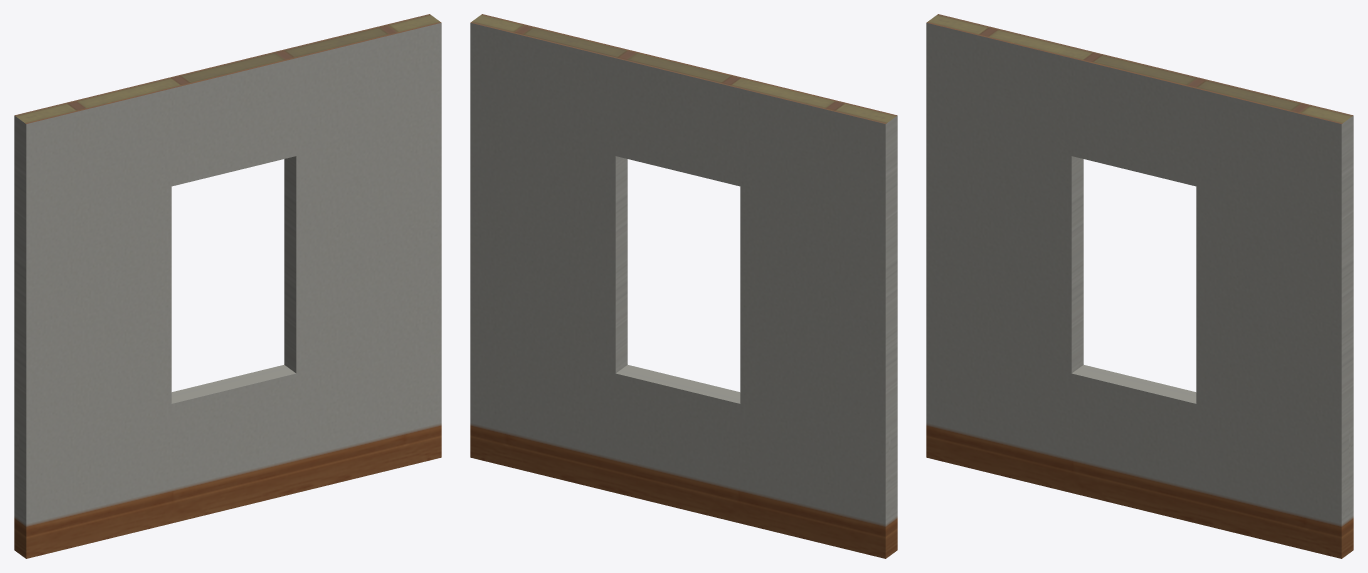
The model's file is wall4_4.fbx.
The picture shows the model from 3 angles, left to right: view 1: azimuth 30°, elevation 25°; view 2: azimuth 150°, elevation 25°; view 3: azimuth 330°, elevation 25°; orthographic projection.
Parts seen in each view (by area): view 1: wall4_white_d; view 2: wall4_white_d; view 3: wall4_white_d.
Part boxes in pixels (<box>): wall4_white_d: <box>14,14,441,558</box>; wall4_white_d: <box>470,14,897,558</box>; wall4_white_d: <box>926,14,1353,558</box>.
Bounding box in the file's own units: 400 × 400 × 20.
